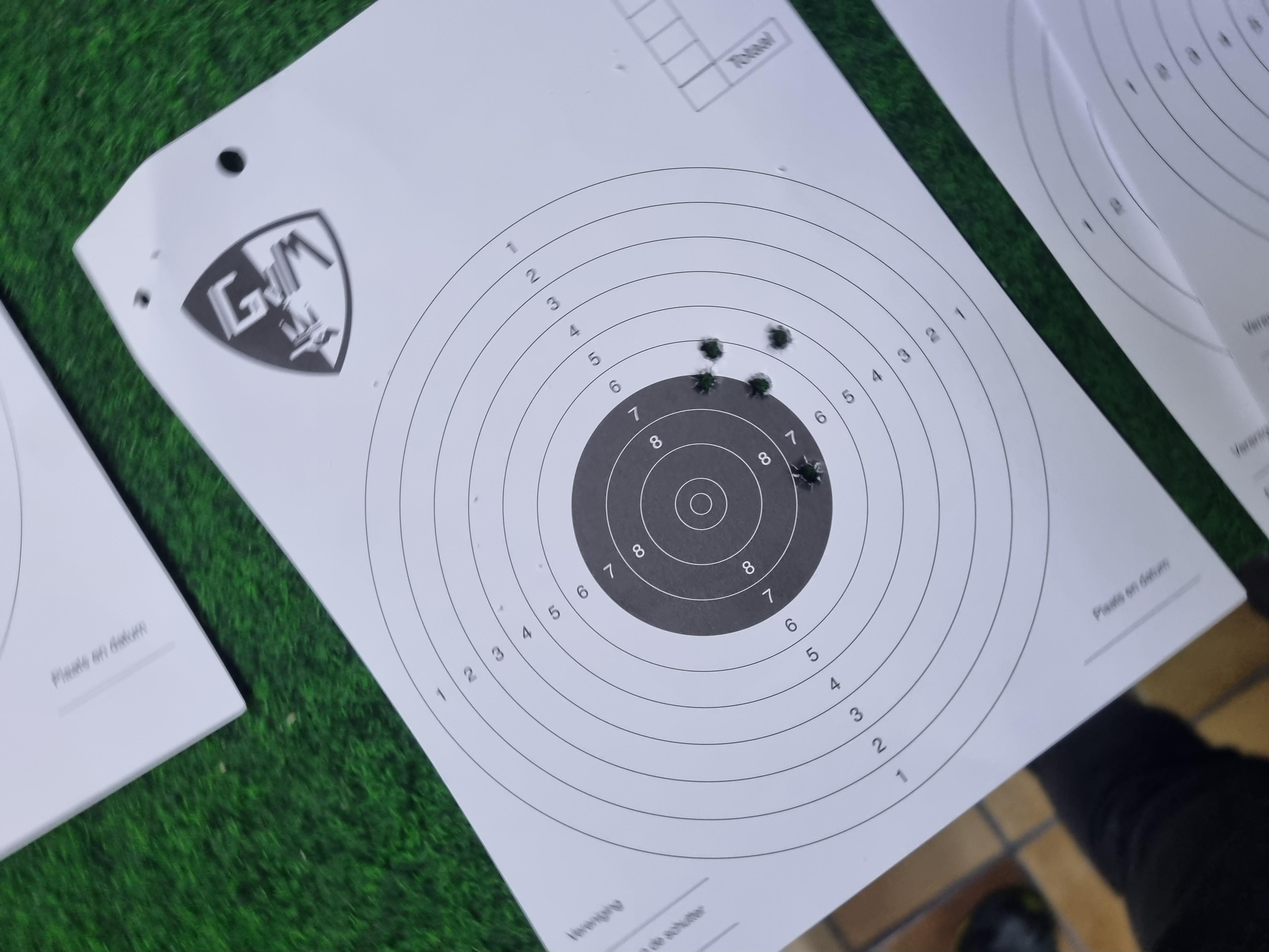hole: (616, 594, 660, 618), (742, 518, 780, 540), (736, 559, 773, 580), (801, 575, 838, 594), (786, 524, 820, 544)
